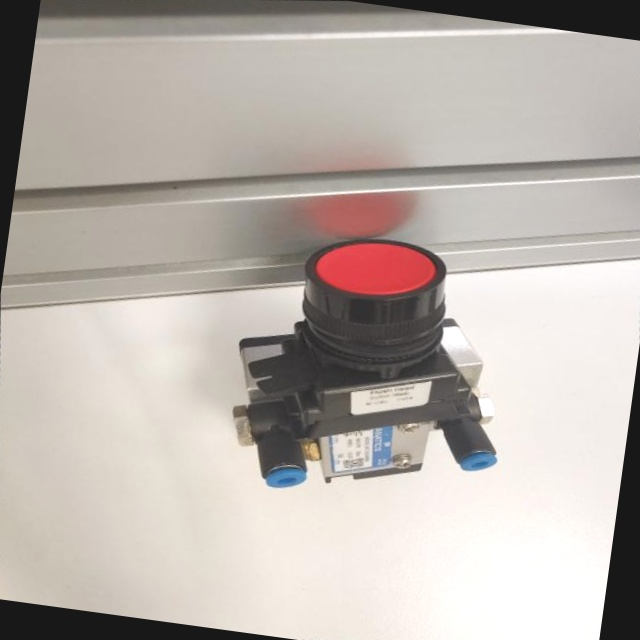push button: (200, 202, 532, 522)
